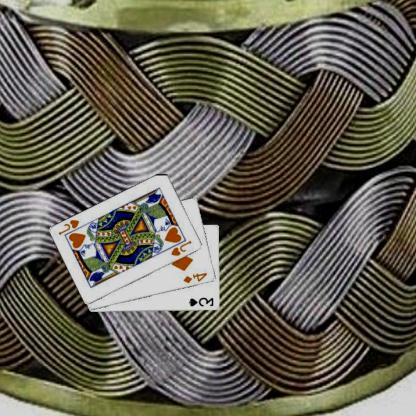3S: (188, 295, 216, 308)
4D: (182, 270, 210, 285)
JH: (170, 238, 195, 258), (58, 216, 83, 236)
